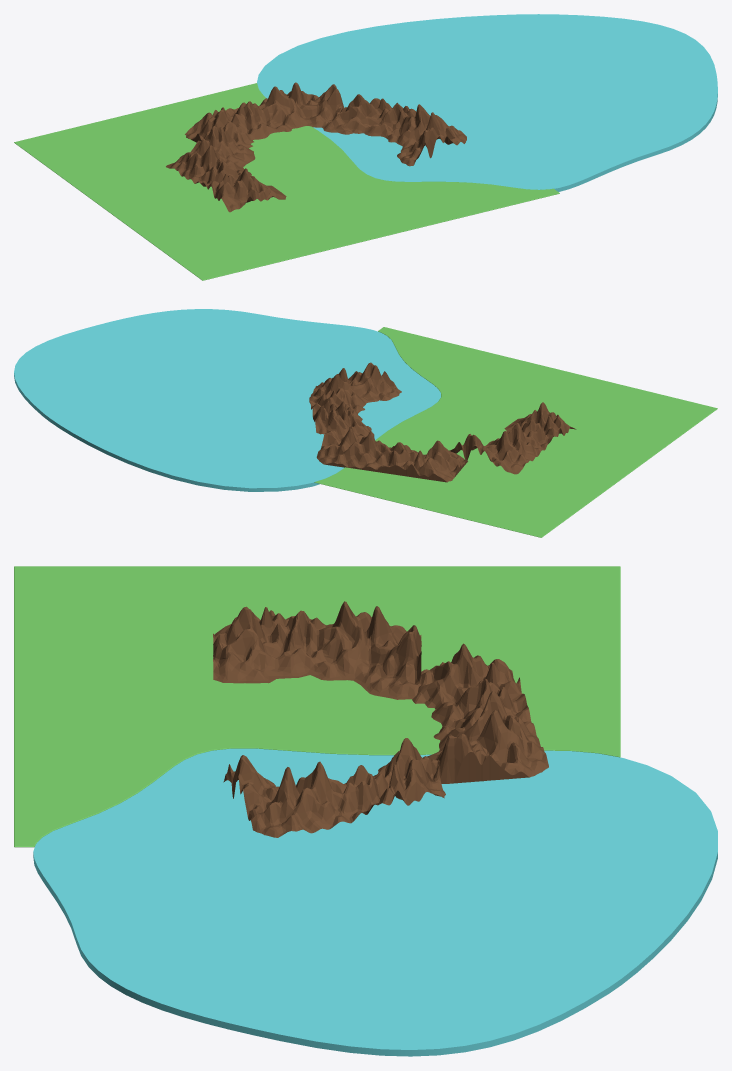
File: environment.fbx
3 renders of one model, top to bottom at view 1: azimuth 30°, elevation 25°; view 2: azimuth 150°, elevation 25°; view 3: azimuth 270°, elevation 25°, orthographic. The views are drawn at different scales.
Visible parts, largest first — view 1: Lago, Cesped, Montañas.002, Montañas.001, Montañas; view 2: Lago, Cesped, Montañas.002, Montañas.001, Montañas; view 3: Lago, Cesped, Montañas, Montañas.002, Montañas.001.
Boxes of the visible parts, x1,y1,x2,y2 form: Lago: (257,14,717,191); Cesped: (14,83,559,280); Montañas.002: (185,82,343,147); Montañas.001: (322,94,466,166); Montañas: (166,126,286,212); Lago: (14,309,440,491); Cesped: (314,327,717,537); Montañas.002: (316,415,467,482); Montañas.001: (309,362,401,436); Montañas: (449,402,576,474); Lago: (33,748,717,1056); Cesped: (14,566,620,847); Montañas: (213,601,421,699); Montañas.002: (412,643,548,783); Montañas.001: (223,738,445,837).
Size of the model in its own units: 16886 by 1064 by 10396.
